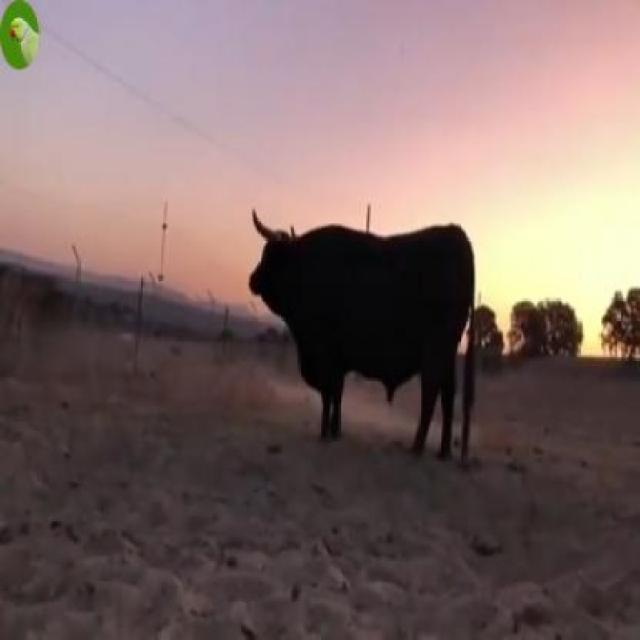Cow: (246, 206, 477, 466)
